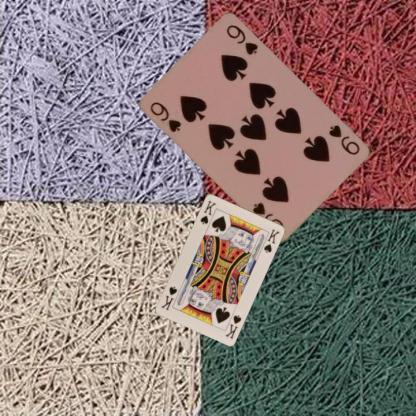9s: (325, 120, 362, 157), (147, 99, 183, 133)
Ks: (222, 312, 242, 340), (198, 197, 217, 225)
